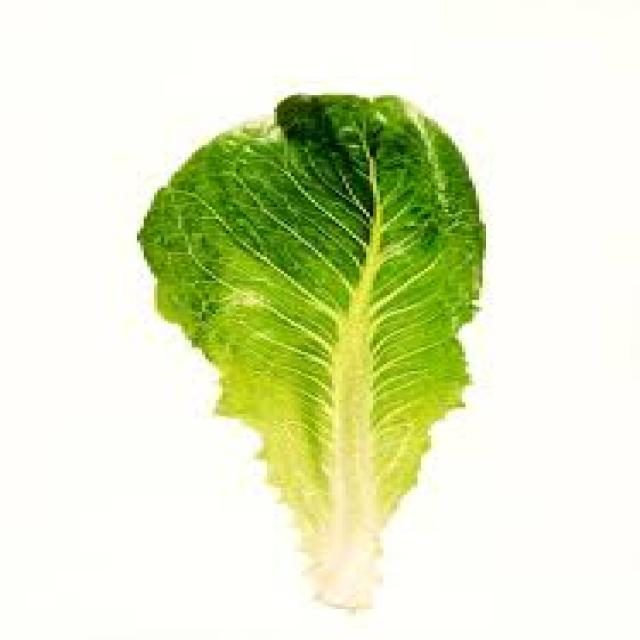lettuce: (133, 90, 486, 612)
